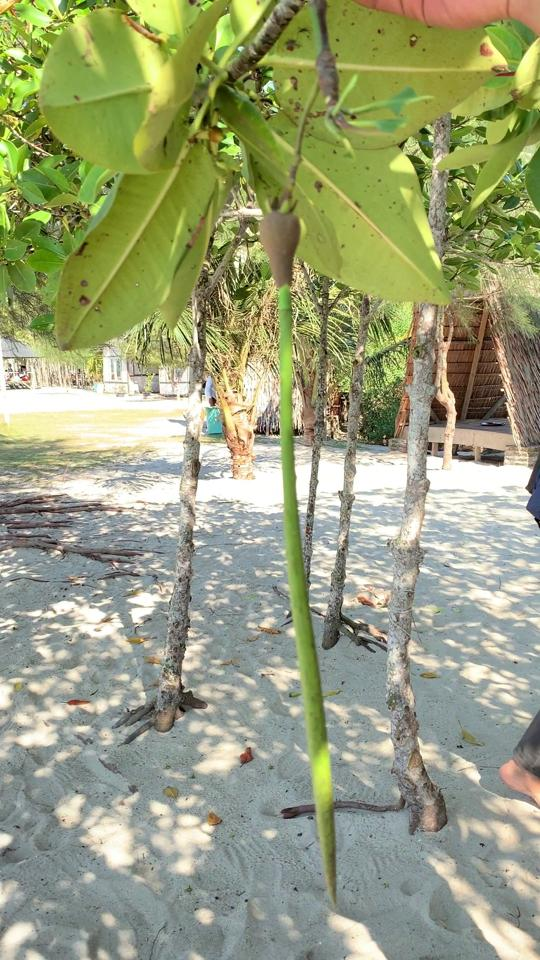setengah matang: (239, 179, 356, 912)
